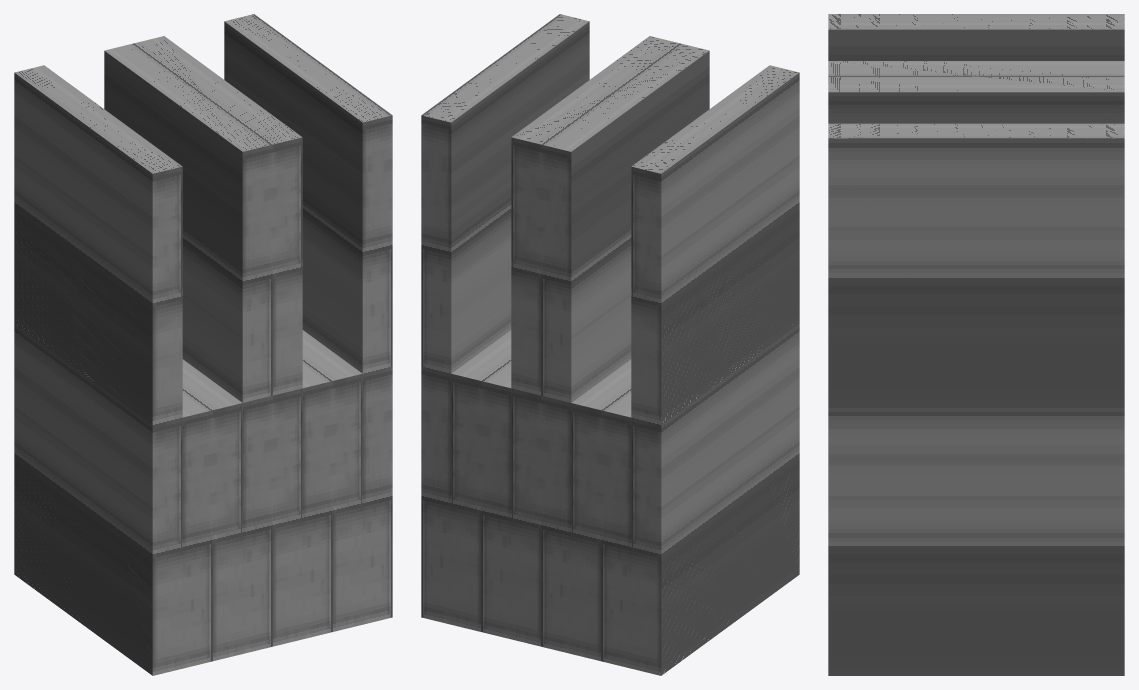
The model's file is castleledge1.obj.
3 renders of one model, left to right at view 1: azimuth 30°, elevation 25°; view 2: azimuth 150°, elevation 25°; view 3: azimuth 270°, elevation 25°, orthographic. The views are drawn at different scales.
Parts seen in each view (by area): view 1: Object.1; view 2: Object.1; view 3: Object.1.
Part boxes in pixels (x1,y1,x2,y2): Object.1: [14, 14, 392, 675]; Object.1: [421, 14, 799, 675]; Object.1: [828, 14, 1124, 675].
Size of the model in its own units: 1 by 2 by 1.
